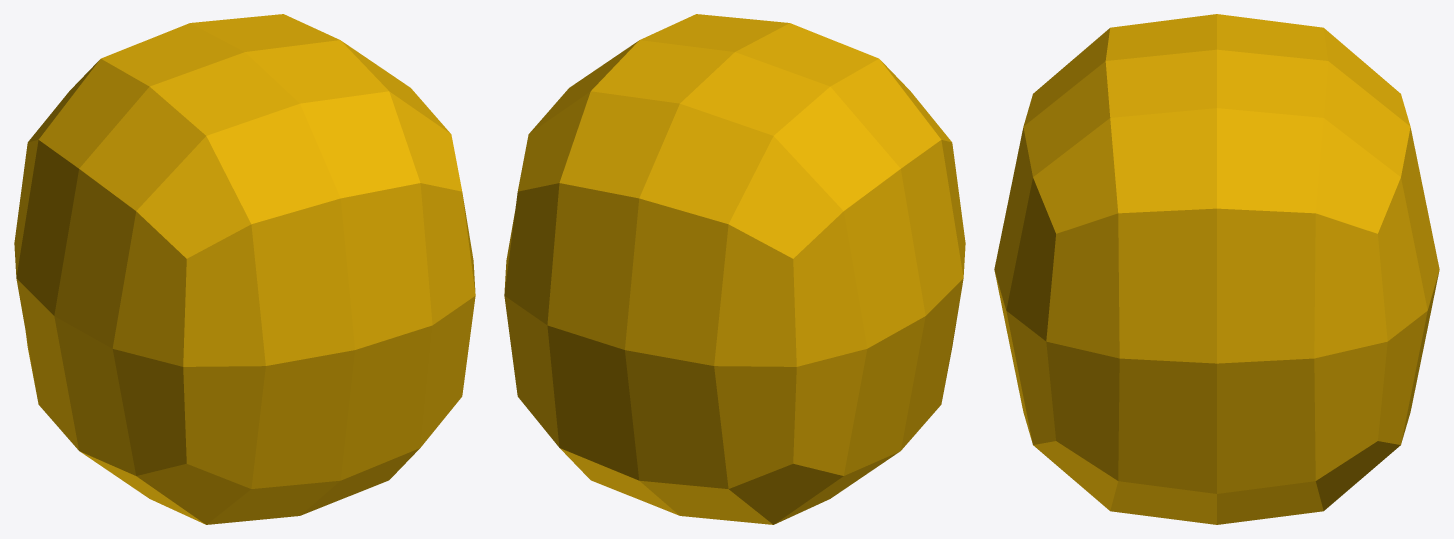
The model's file is Gold_ball.fbx.
3 views of the same model, side by side, from view 1: azimuth 30°, elevation 25°; view 2: azimuth 150°, elevation 25°; view 3: azimuth 270°, elevation 25° (orthographic).
Parts seen in each view (by area): view 1: Cube; view 2: Cube; view 3: Cube.
Part boxes in pixels (left/top/right/bottom): Cube: left=14, top=14, right=475, bottom=524; Cube: left=504, top=14, right=965, bottom=524; Cube: left=994, top=14, right=1439, bottom=524.
Size of the model in its own units: 8.99 by 8.99 by 9.79.
